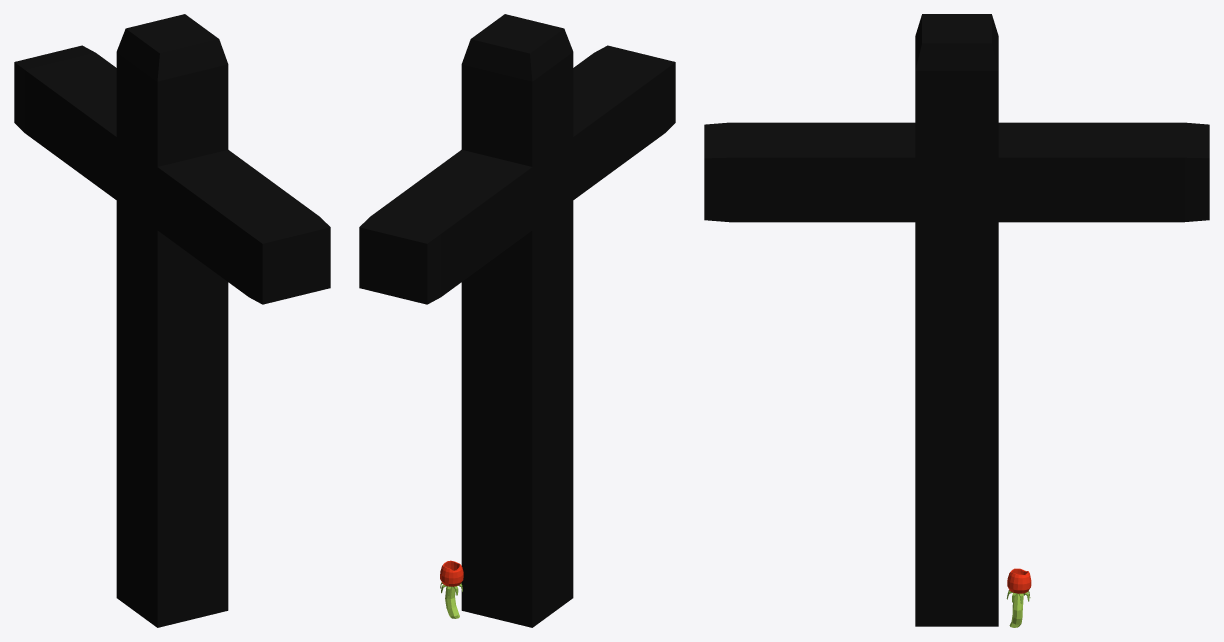
Rendered from grave1.glb.
The picture shows the model from 3 angles, left to right: view 1: azimuth 30°, elevation 25°; view 2: azimuth 150°, elevation 25°; view 3: azimuth 270°, elevation 25°; orthographic projection.
Visible parts, largest first — view 1: GraveSpawn; view 2: GraveSpawn; view 3: GraveSpawn.
Boxes of the visible parts, box(x1,y1,x2,y2) form: GraveSpawn: box(14, 14, 330, 627); GraveSpawn: box(359, 14, 675, 627); GraveSpawn: box(704, 14, 1209, 627).
Bounding box in the file's own units: 0.1278 × 0.8572 × 0.6765.
Materials: 1 (1 with a texture image).
